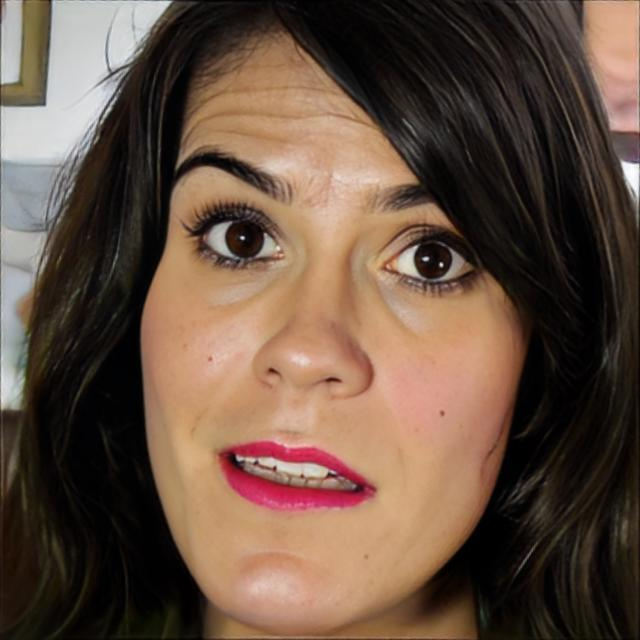surprise: (139, 1, 538, 633)
